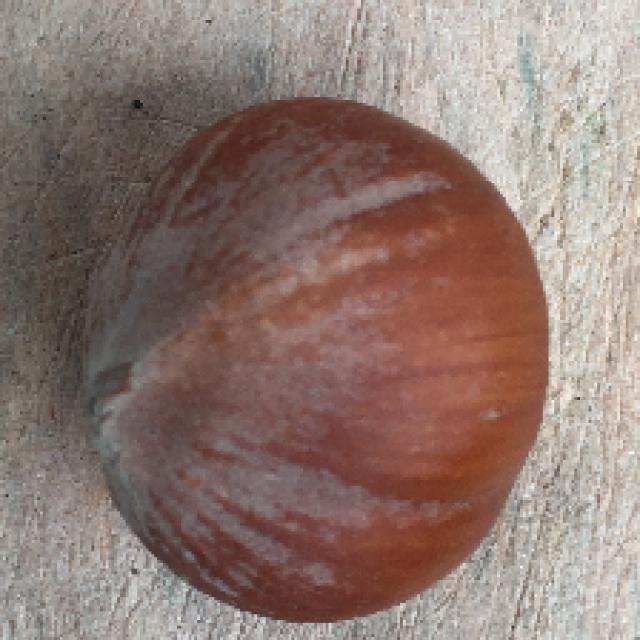QualityHazelnut: (83, 98, 555, 624)
